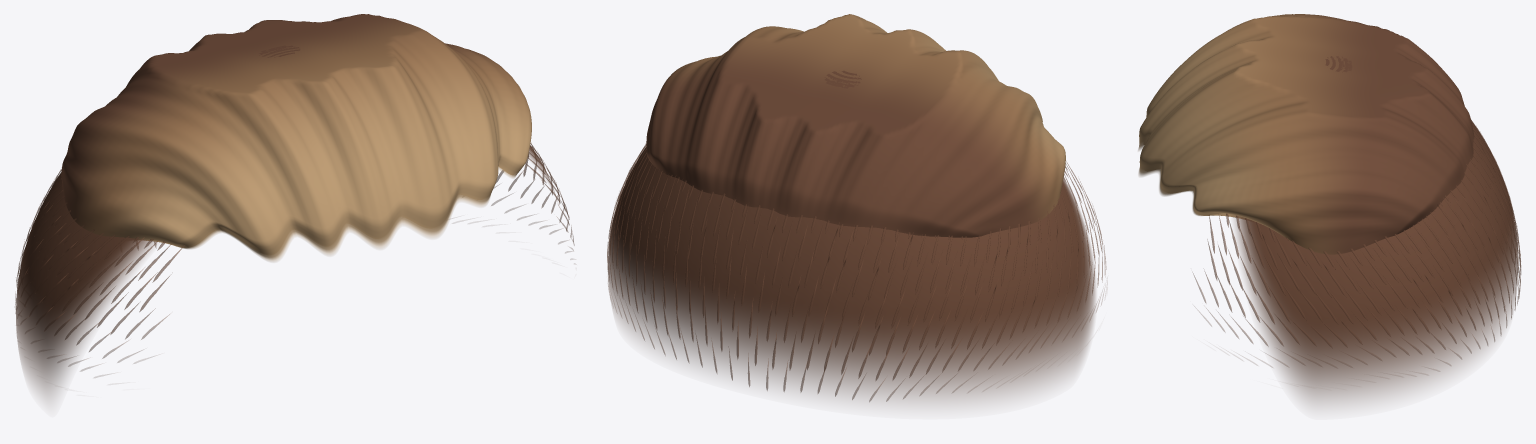
File: Masculine-sidepart-bucket259-hair-ombre.glb
3 views of the same model, side by side, from view 1: azimuth 30°, elevation 25°; view 2: azimuth 150°, elevation 25°; view 3: azimuth 270°, elevation 25° (orthographic). The views are drawn at different scales.
Visible parts, largest first — view 1: 226 hair / Hair259 / textured forward Crop, 226 hair / Hair258 / smooth side fade, 226 hair / Hair259 / directional fade marks214; view 2: 226 hair / Hair258 / smooth side fade, 226 hair / Hair259 / textured forward Crop, 226 hair / Hair259 / directional fade marks214; view 3: 226 hair / Hair259 / textured forward Crop, 226 hair / Hair258 / smooth side fade, 226 hair / Hair259 / directional fade marks214.
Boxes of the visible parts, x1,y1,x2,y2 form: 226 hair / Hair259 / textured forward Crop: (61, 14, 531, 261); 226 hair / Hair258 / smooth side fade: (16, 45, 554, 399); 226 hair / Hair259 / directional fade marks214: (15, 143, 574, 377); 226 hair / Hair258 / smooth side fade: (608, 70, 1095, 403); 226 hair / Hair259 / textured forward Crop: (646, 14, 1065, 237); 226 hair / Hair259 / directional fade marks214: (607, 144, 1107, 401); 226 hair / Hair259 / textured forward Crop: (1138, 14, 1474, 254); 226 hair / Hair258 / smooth side fade: (1234, 56, 1518, 405); 226 hair / Hair259 / directional fade marks214: (1193, 119, 1521, 374).
Bounding box in the file's own units: 0.9743 × 0.6057 × 0.7545.
